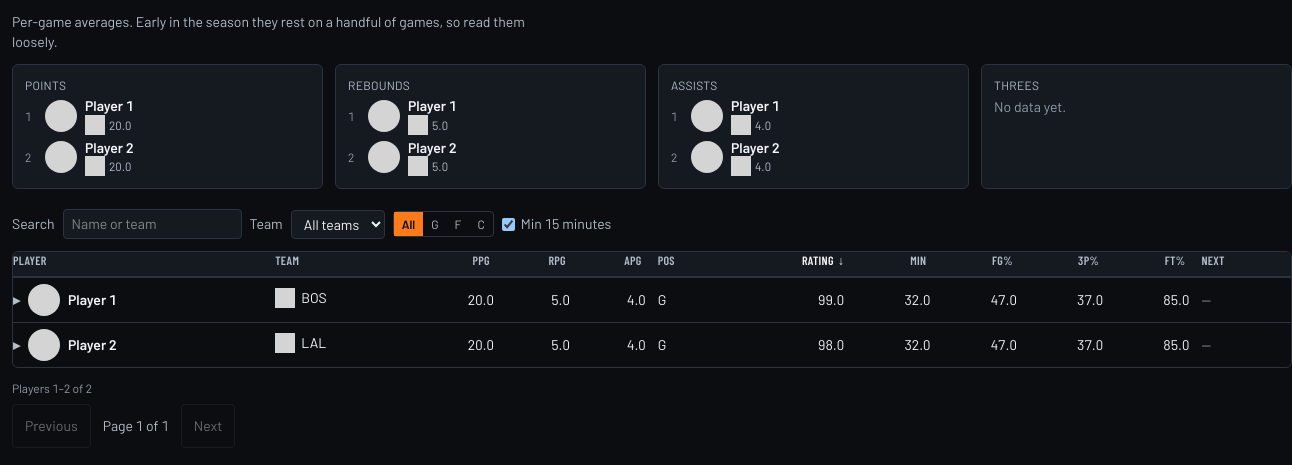
PlayerHubPanel › writes the filters to the URL as they change, without a render-time update
The width and height of the screenshot is (1292, 465).
expect the text "Player 1" is shown: met, box top-left (28, 284), bottom-right (116, 316)
Select "LAL" in the dropdown labelled "Team" at (338, 224), box top-left (291, 210), bottom-right (385, 238)
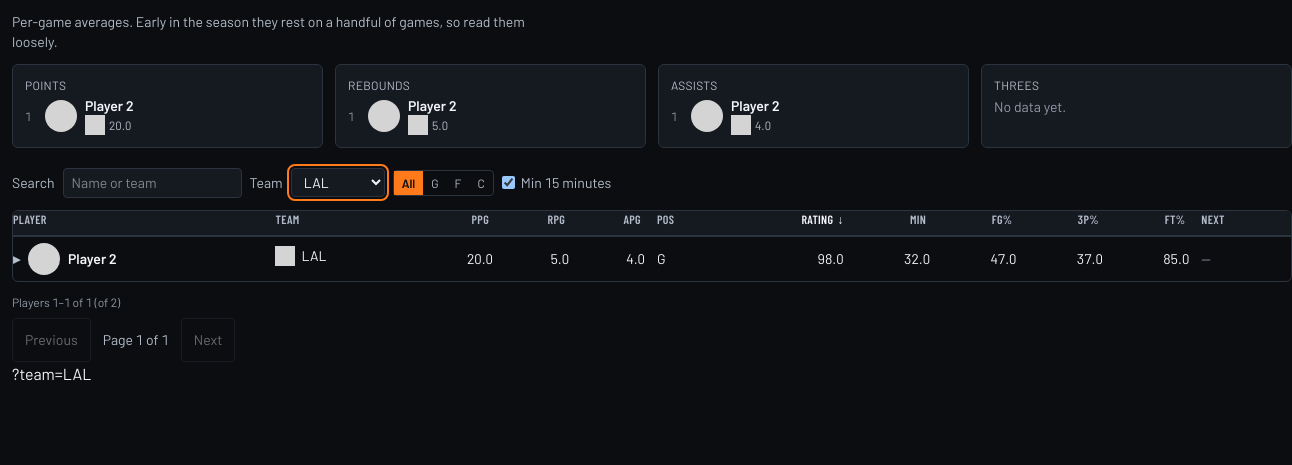
expect the text with test id "where" shows "team=LAL": met, box top-left (12, 364), bottom-right (91, 382)
expect the text "Player 1" is gone: met
